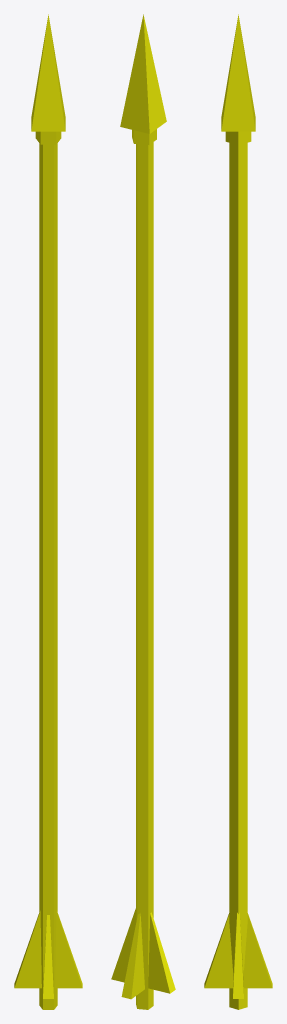
File: _arrow_c_8.glb
3 views of the same model, side by side, from view 1: azimuth 90°, elevation 25°; view 2: azimuth 150°, elevation 25°; view 3: azimuth 270°, elevation 25° (orthographic).
Parts seen in each view (by area): view 1: arrow_c_8; view 2: arrow_c_8; view 3: arrow_c_8.
Part boxes in pixels (left/top/right/bottom): arrow_c_8: left=14, top=14, right=82, bottom=1009; arrow_c_8: left=111, top=14, right=175, bottom=1009; arrow_c_8: left=204, top=14, right=272, bottom=1009.
Bounding box in the file's own units: 0.0379 × 0.6095 × 0.0379.
1 material, 1 textured.
